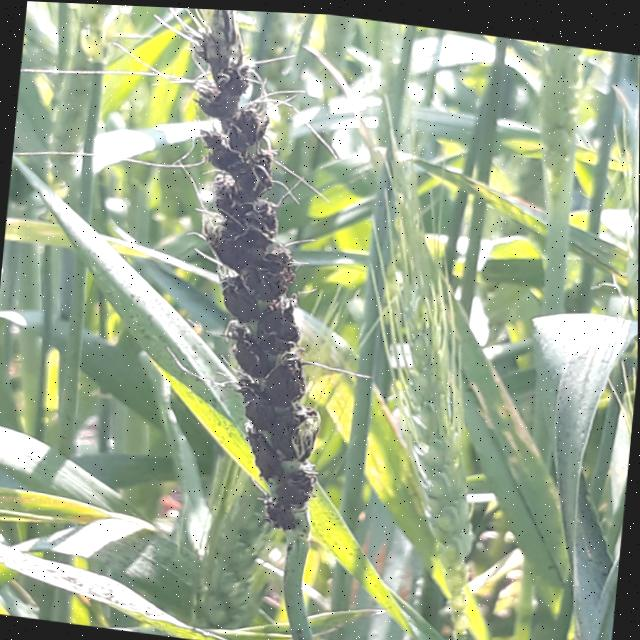loose_charred: (132, 5, 372, 640)
